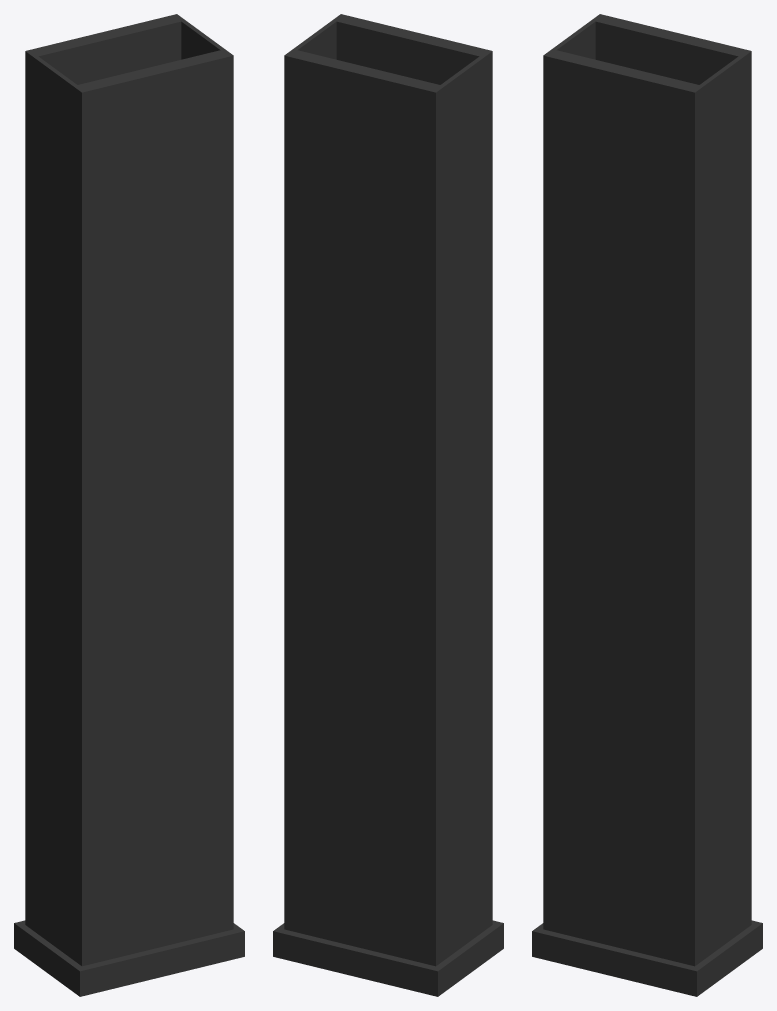
Rendered from Pistol6_01_4.fbx.
3 renders of one model, left to right at view 1: azimuth 30°, elevation 25°; view 2: azimuth 150°, elevation 25°; view 3: azimuth 330°, elevation 25°, orthographic.
Visible parts, largest first — view 1: Pistol6_01_4; view 2: Pistol6_01_4; view 3: Pistol6_01_4.
Boxes of the visible parts, bbox=[...] form: Pistol6_01_4: bbox=[14, 14, 244, 996]; Pistol6_01_4: bbox=[273, 14, 503, 996]; Pistol6_01_4: bbox=[532, 14, 762, 996].
Size of the model in its own units: 0.0391 by 0.2038 by 0.0271.
